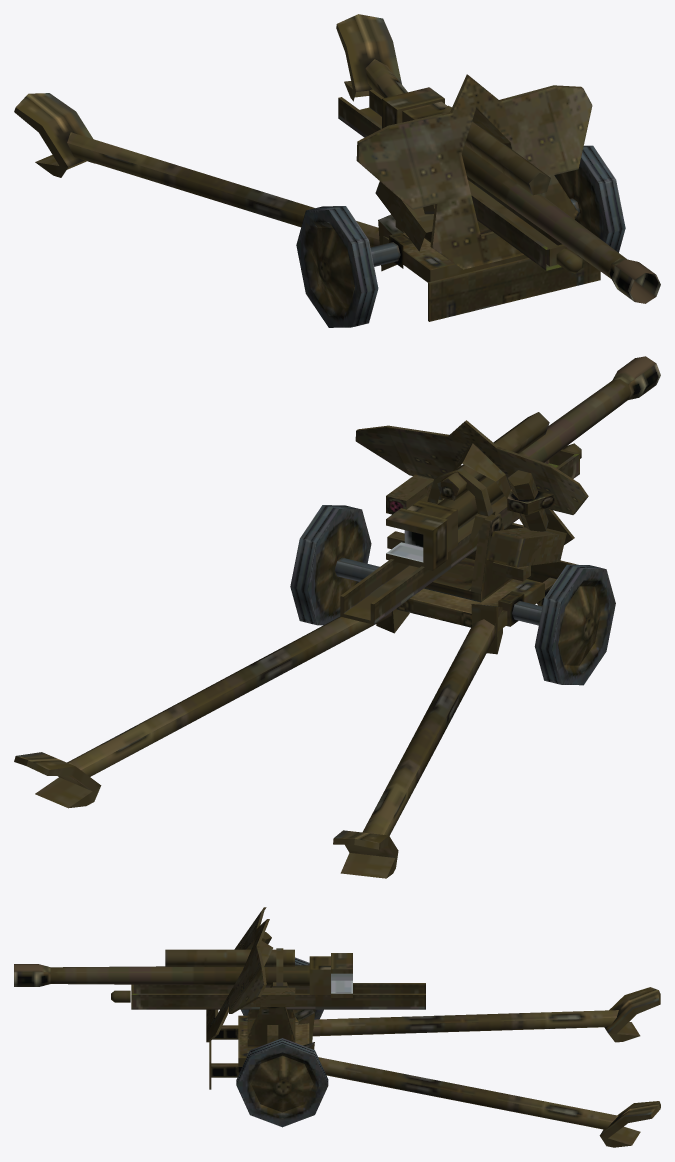
File: SWEHaubitsM39.dae
3 renders of one model, top to bottom at view 1: azimuth 30°, elevation 25°; view 2: azimuth 150°, elevation 25°; view 3: azimuth 270°, elevation 25°, orthographic. The views are drawn at different scales.
Parts seen in each view (by area): view 1: carriage, wheels, barrel, sleeve; view 2: carriage, wheels, sleeve, barrel; view 3: carriage, sleeve, barrel, wheels.
Boxes of the visible parts, bbox=[...] form: carriage: bbox=[14, 14, 600, 321]; wheels: bbox=[296, 145, 625, 327]; barrel: bbox=[382, 87, 660, 303]; sleeve: bbox=[338, 89, 582, 273]; carriage: bbox=[14, 420, 588, 878]; wheels: bbox=[290, 505, 615, 685]; sleeve: bbox=[340, 412, 581, 624]; barrel: bbox=[386, 356, 660, 570]; carriage: bbox=[206, 907, 660, 1147]; sleeve: bbox=[111, 948, 425, 1009]; barrel: bbox=[14, 953, 352, 997]; wheels: bbox=[236, 957, 328, 1127].
Size of the model in its own units: 21.48 by 46.12 by 13.29.
